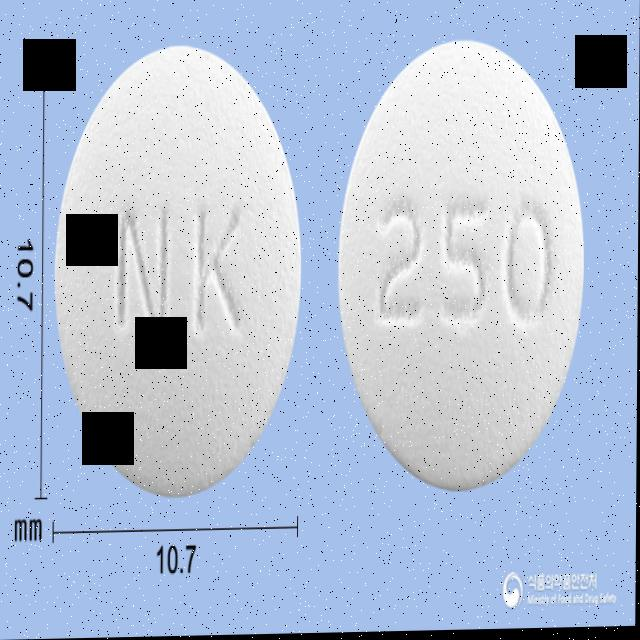Avelox: (54, 43, 305, 501), (338, 36, 587, 495)
